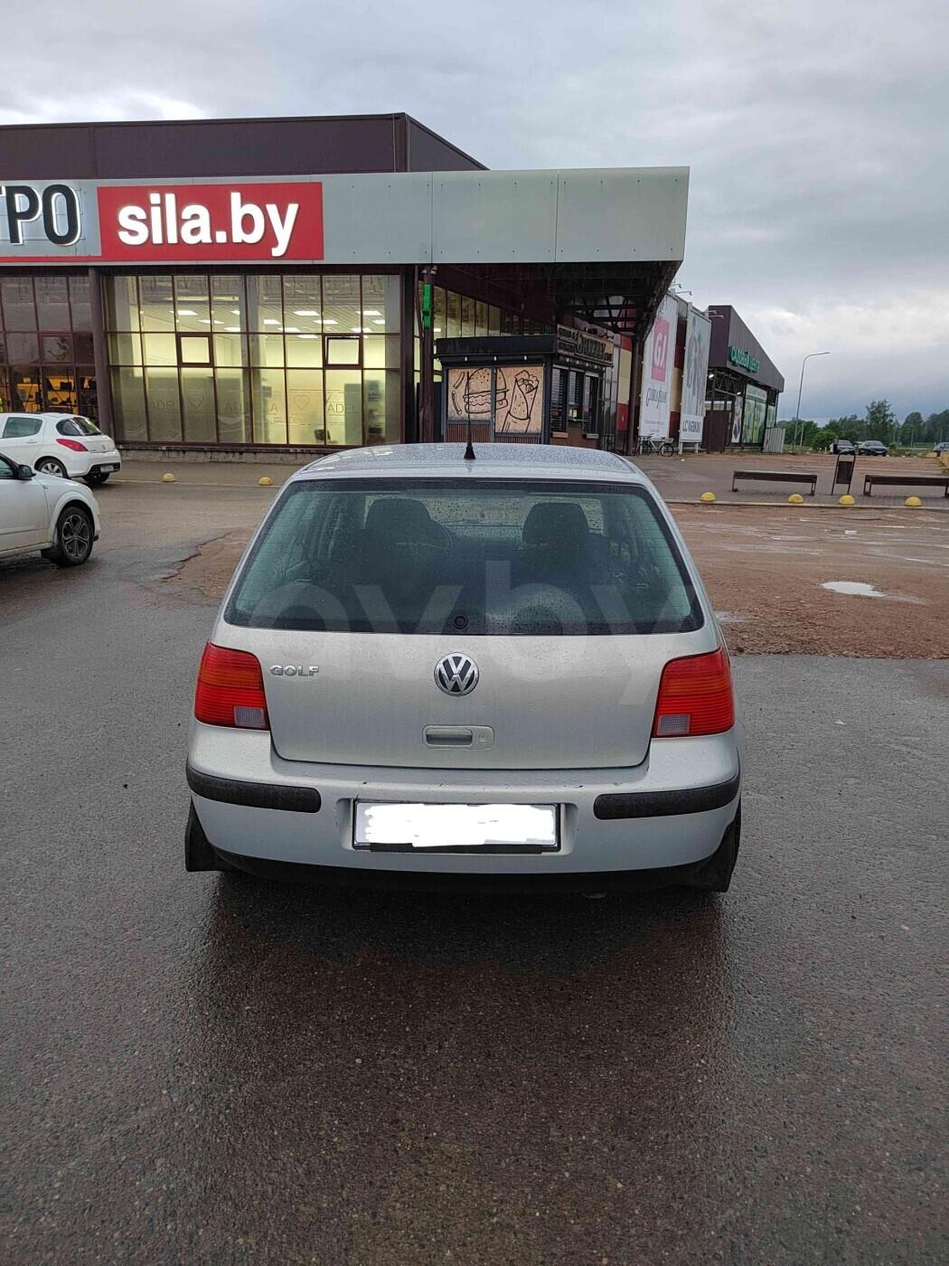Golf_1997-2006: (176, 439, 753, 933)
